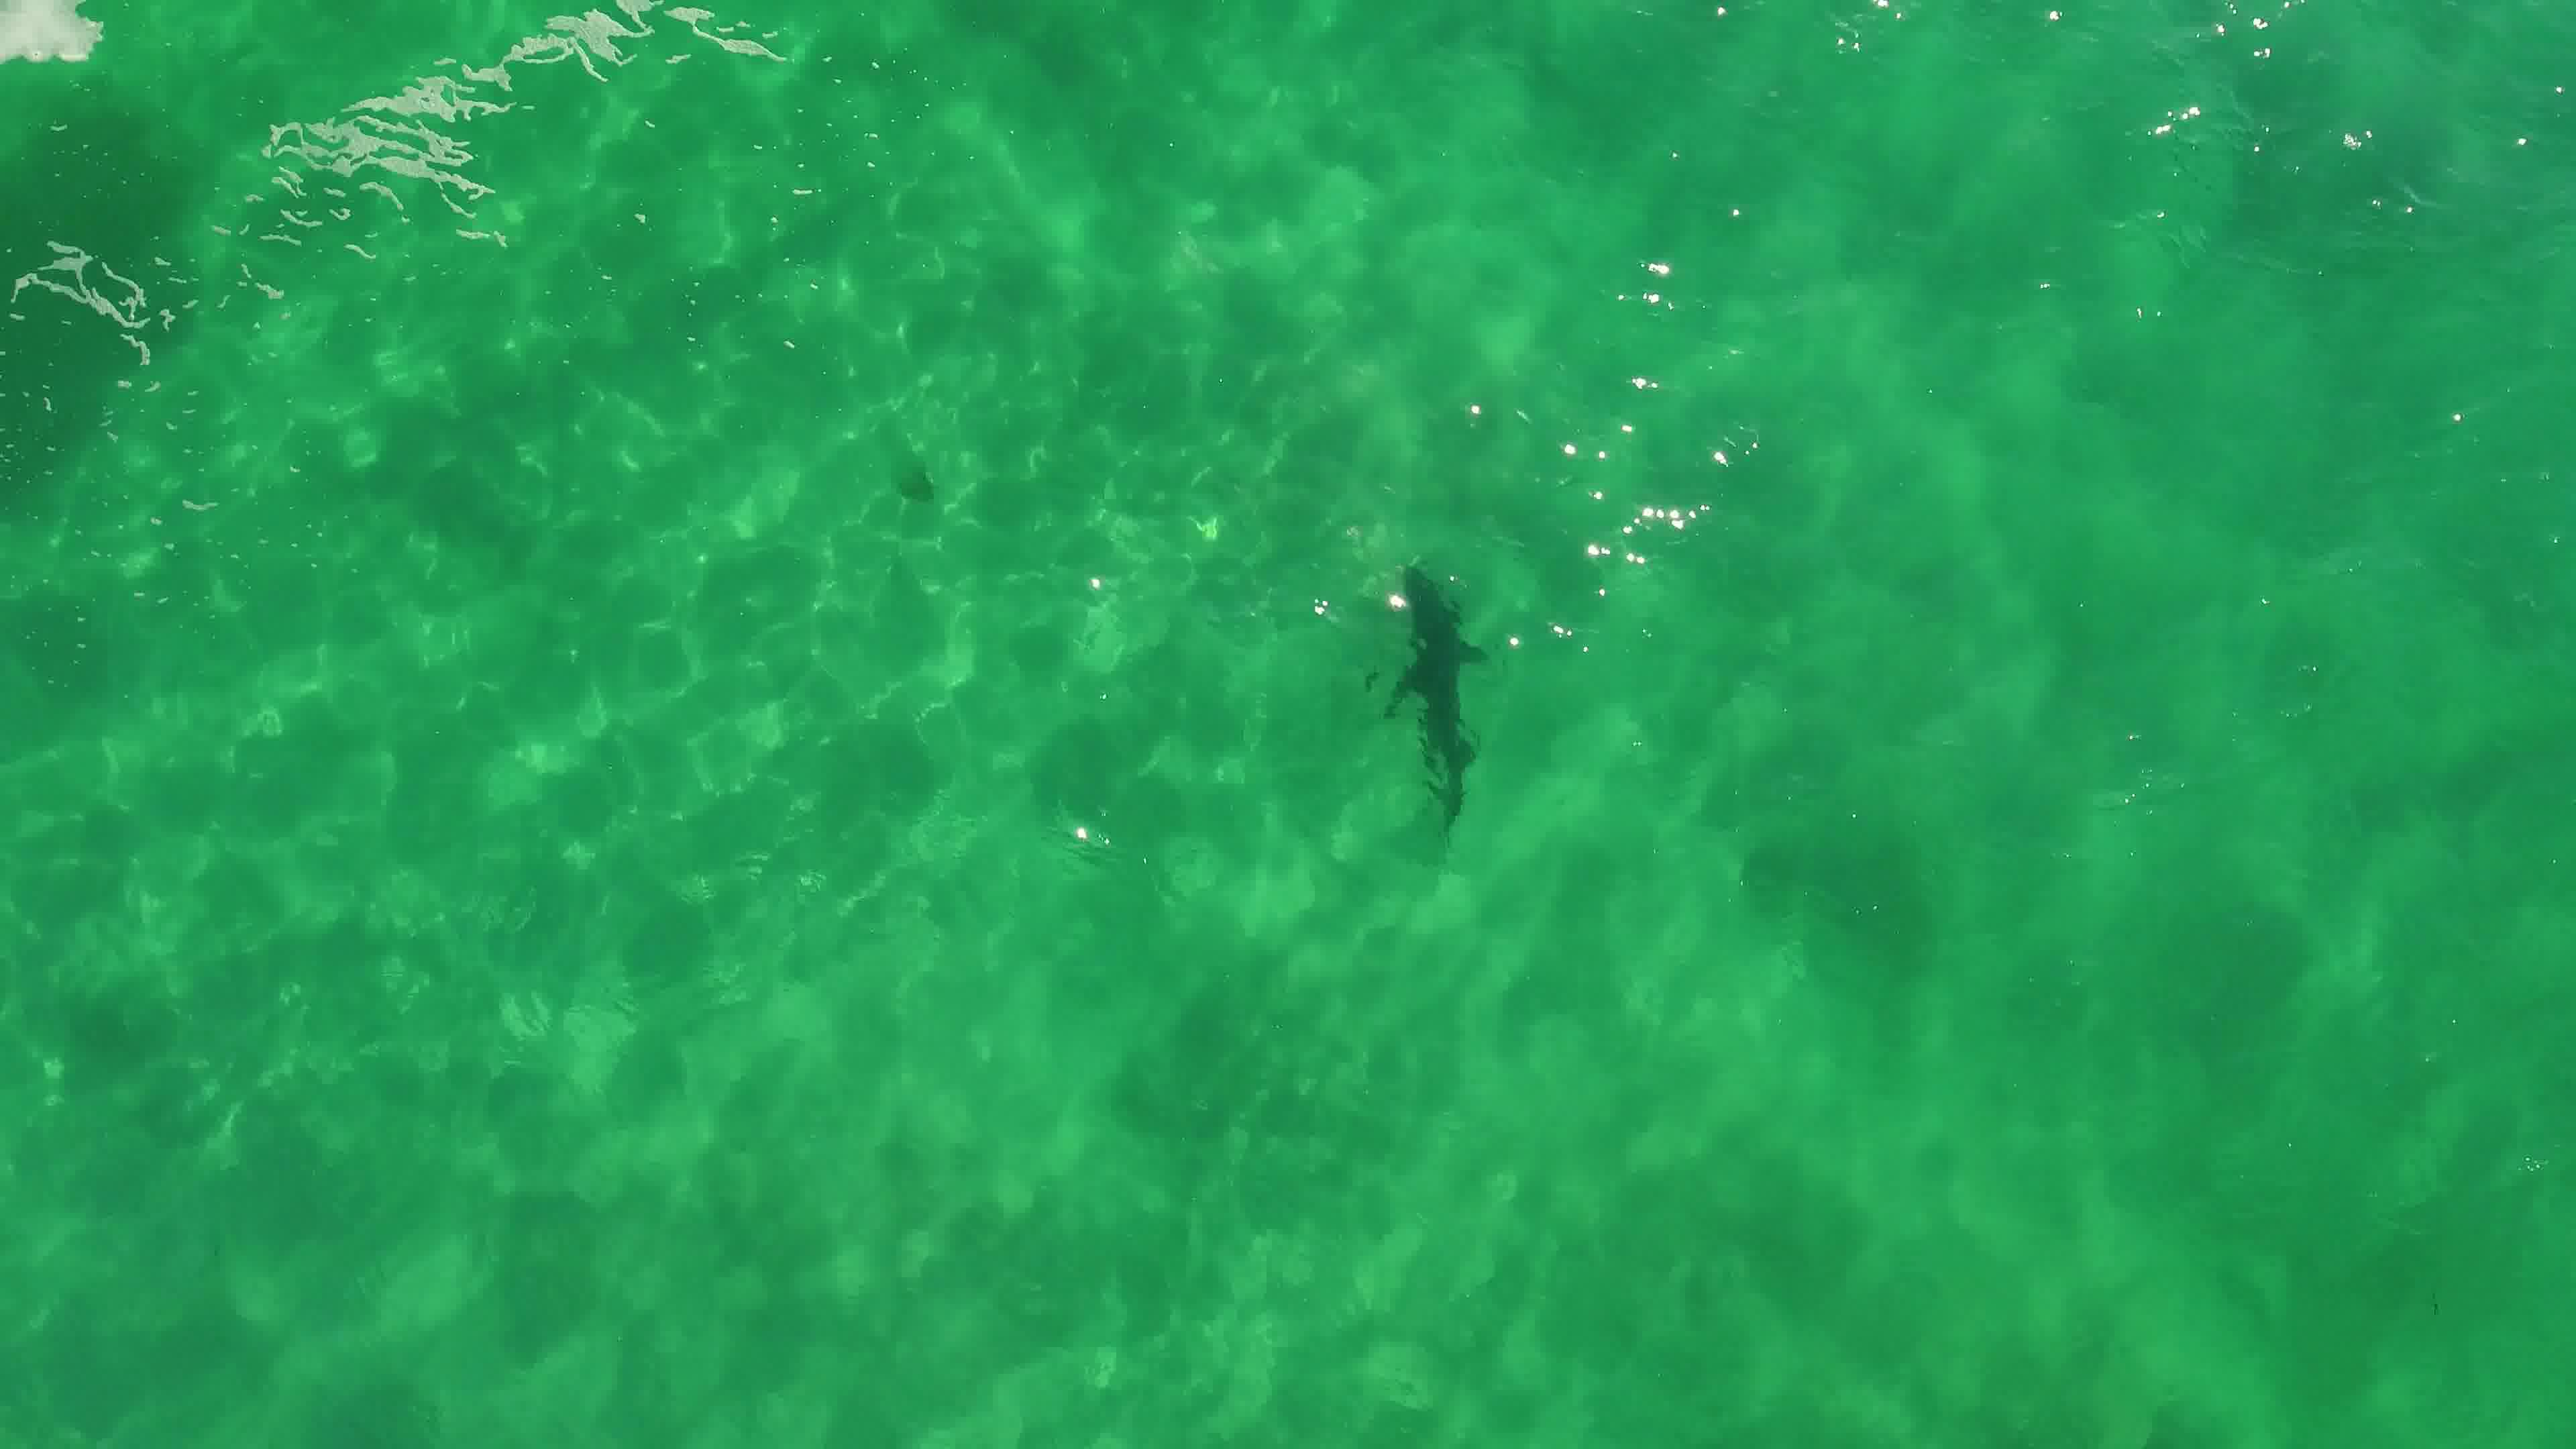shark: (1378, 559, 1493, 835)
